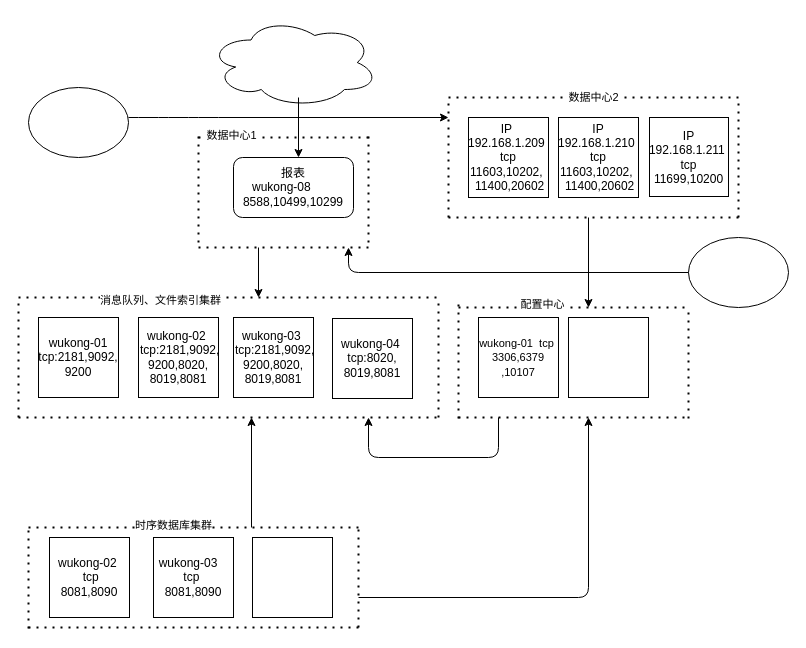
Some shapes in this 806 by 648 pixel diagram are drawn without their labels. The centre of each missing label's shape, as x and y in pixels:
client端应用数据采集: the point at 293,62
server端应用数据采集 tcp 7665 10100: the point at 78,122
wukong-02 tcp 3306,6379, 18848: the point at 608,357
wukong-04 tcp 8081,8090: the point at 292,577
报表展示端: the point at 738,272
